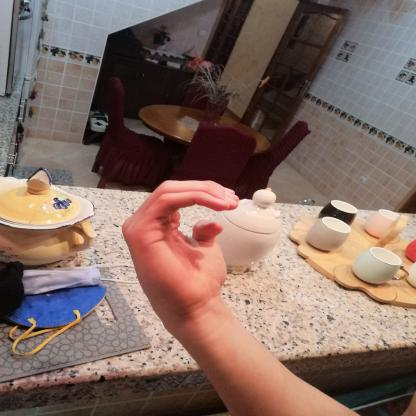JEEM: (110, 166, 252, 324)
